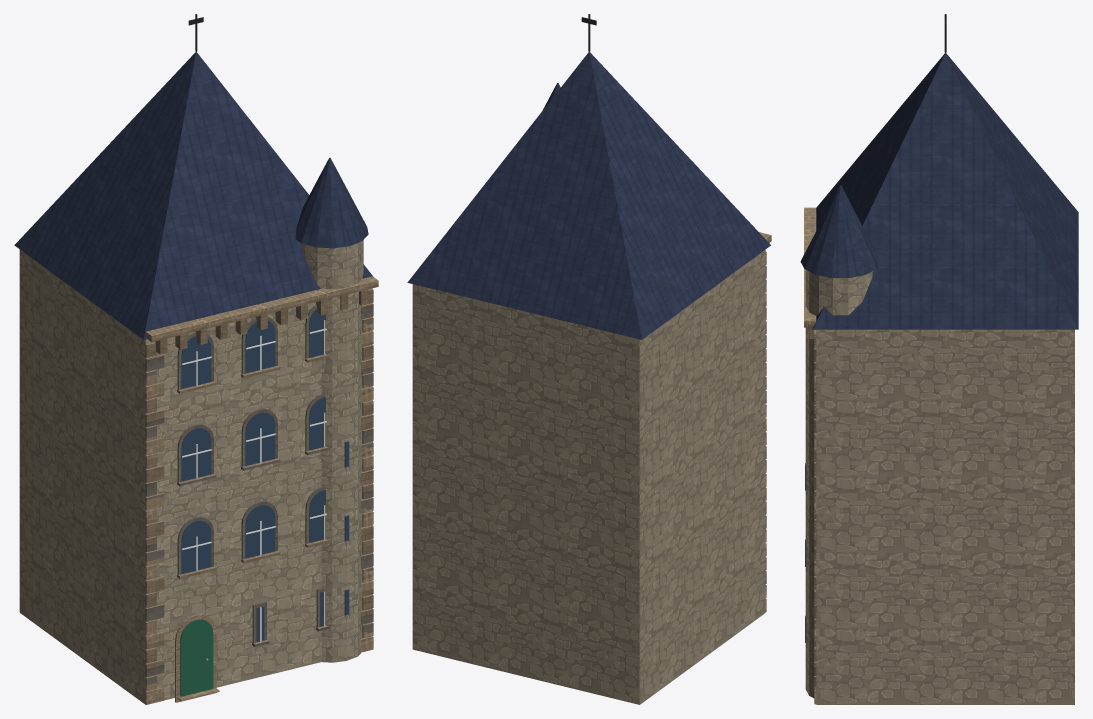
The model's file is torre_w8_1.gltf.
3 views of the same model, side by side, from view 1: azimuth 30°, elevation 25°; view 2: azimuth 150°, elevation 25°; view 3: azimuth 270°, elevation 25° (orthographic). The views are drawn at different scales.
Parts seen in each view (by area): view 1: torre_w8_1; view 2: torre_w8_1; view 3: torre_w8_1.
Boxes of the visible parts, left/top/right/bottom form: torre_w8_1: left=14, top=14, right=378, bottom=704; torre_w8_1: left=407, top=14, right=771, bottom=704; torre_w8_1: left=800, top=14, right=1078, bottom=704.
Size of what is drawn, in the model's own units: 7.96 by 20.13 by 7.95.
6 materials, 3 textured.
